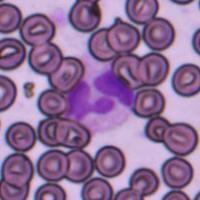N: (64, 58, 136, 136)
